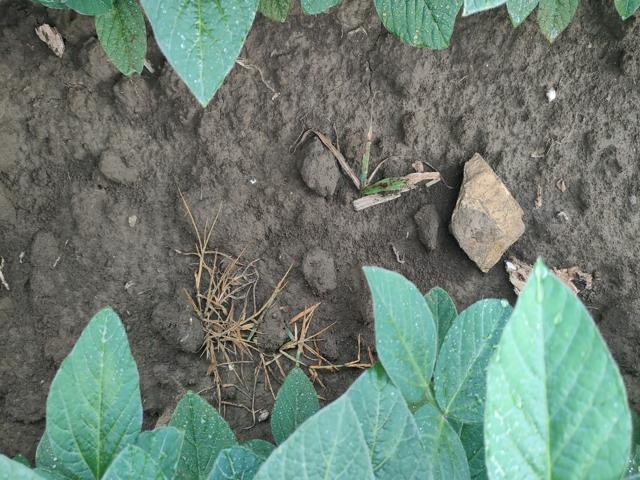bad weed: (146, 211, 380, 406), (310, 128, 411, 201)
